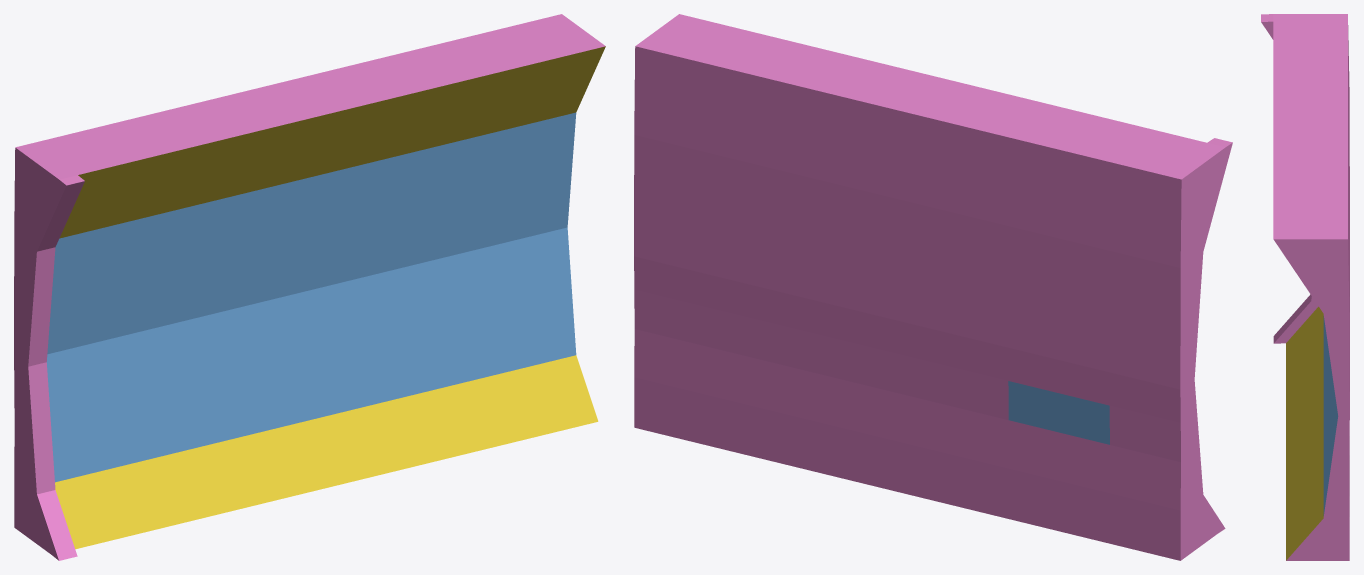
File: Walls_no_window.fbx
The picture shows the model from 3 angles, left to right: view 1: azimuth 30°, elevation 25°; view 2: azimuth 150°, elevation 25°; view 3: azimuth 270°, elevation 25°; orthographic projection. The views are drawn at different scales.
Parts seen in each view (by area): view 1: Cylinder; view 2: Cylinder; view 3: Cylinder.
Part boxes in pixels (x1,y1,x2,y2): Cylinder: (14, 14, 605, 560); Cylinder: (634, 14, 1232, 560); Cylinder: (1261, 14, 1349, 560).
Size of the model in its own units: 12 by 8 by 2.
